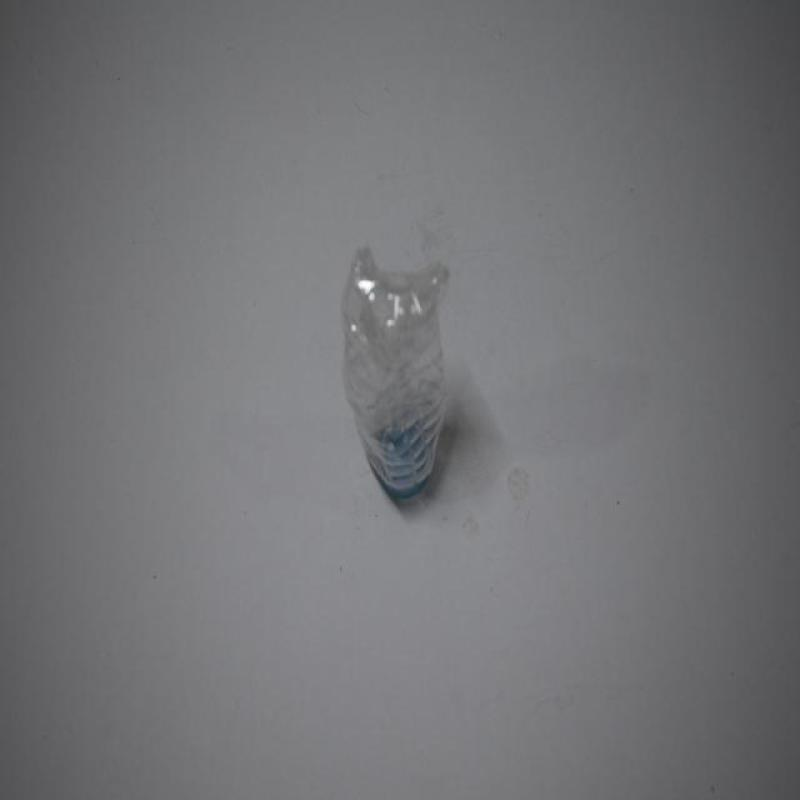botella: (342, 239, 453, 506)
